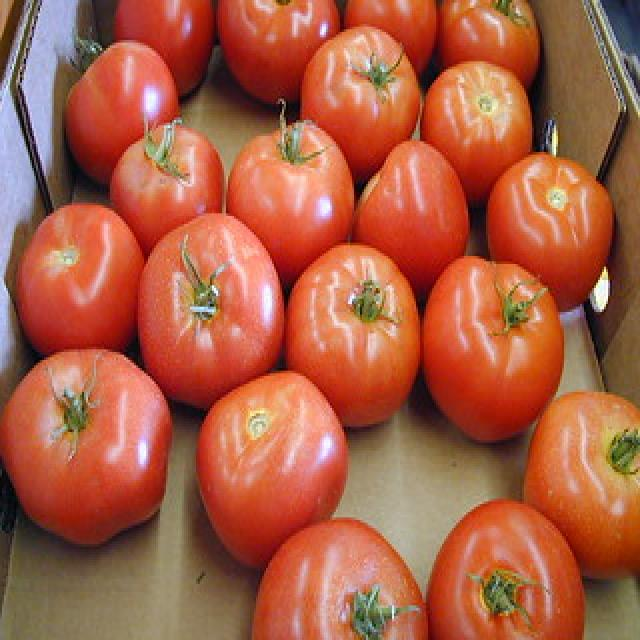Tomato: (0, 346, 173, 552), (192, 369, 352, 574), (135, 205, 288, 408), (418, 252, 567, 446), (284, 238, 424, 437), (245, 508, 433, 640), (425, 496, 591, 640), (9, 197, 154, 361), (522, 390, 639, 586), (225, 114, 355, 288), (479, 151, 618, 309), (56, 30, 180, 190), (348, 136, 475, 278), (298, 24, 420, 171), (418, 55, 536, 196), (105, 119, 225, 238)
